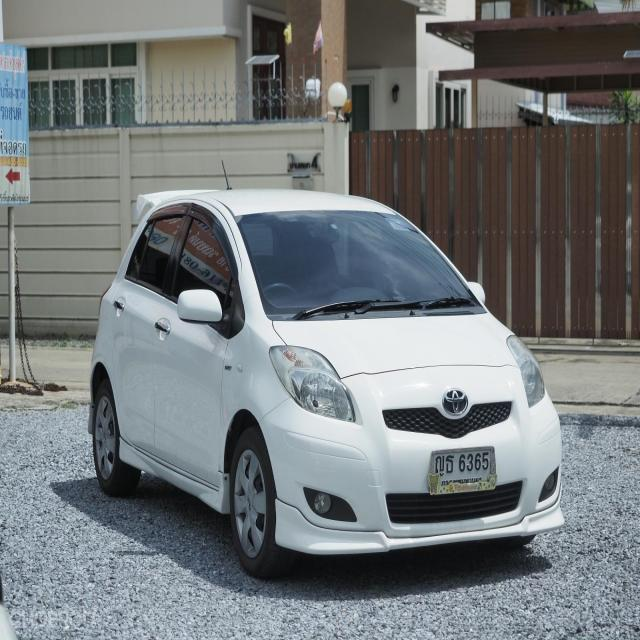license_plate: (426, 442, 501, 500)
